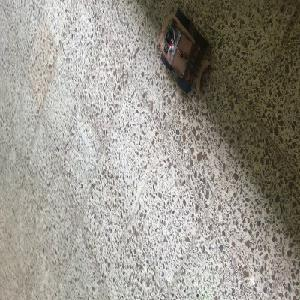Robot: (158, 6, 211, 93)
